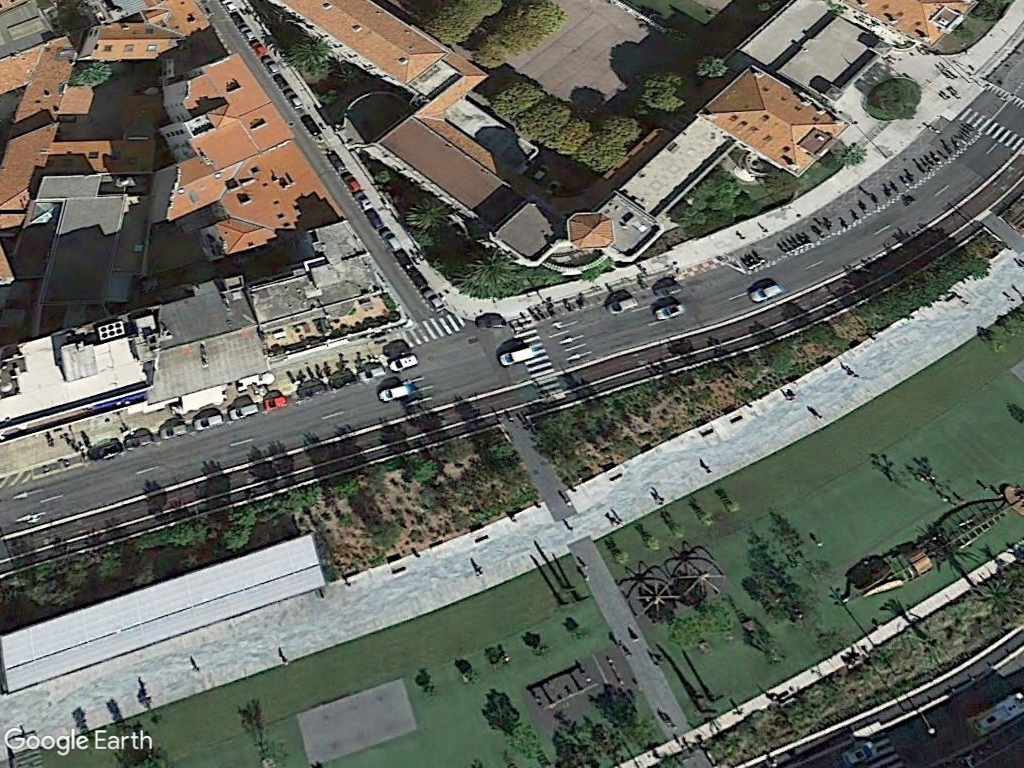car: (474, 312, 509, 330)
